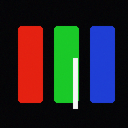4 line_v: (73, 58, 77, 108)
